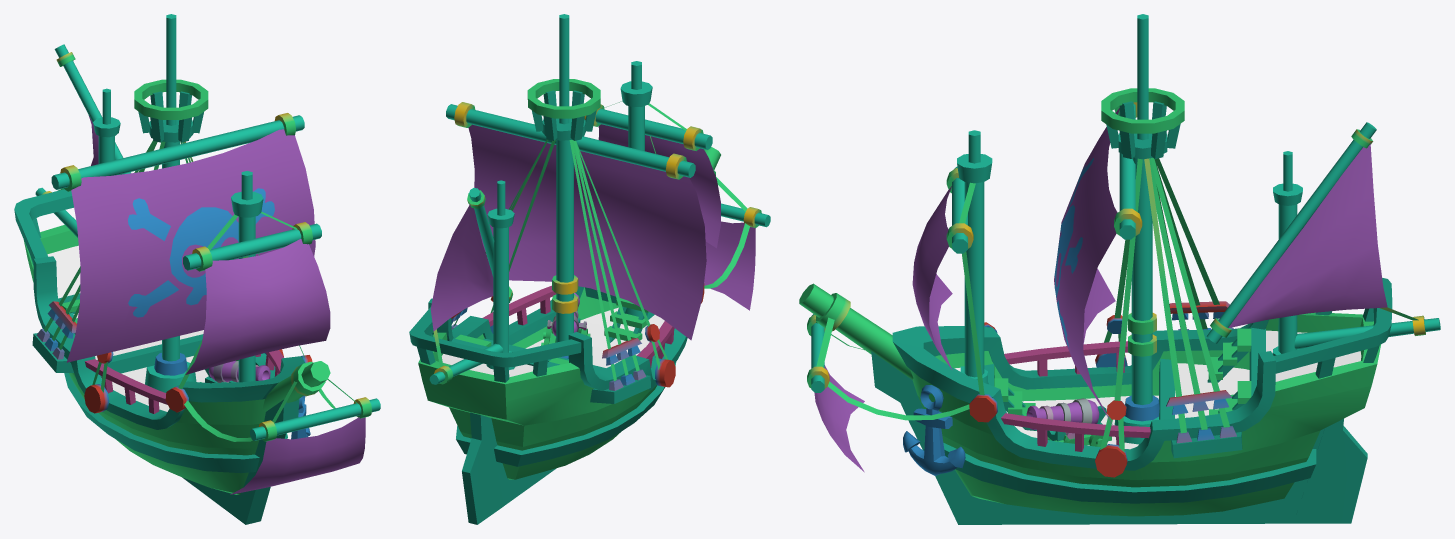
The model's file is Galleon.fbx.
3 renders of one model, left to right at view 1: azimuth 30°, elevation 25°; view 2: azimuth 150°, elevation 25°; view 3: azimuth 270°, elevation 25°, orthographic. The views are drawn at different scales.
Visible parts, largest first — view 1: Sails, Galleon, Upgrade_01, Cannon_group; view 2: Galleon, Sails, Rudder, Upgrade_01, Cannon_group; view 3: Galleon, Sails, Upgrade_01, Rudder, Upgrade_02, Cannon_group.
Part boxes in pixels (x1=…): Sails: x1=66, y1=115, x2=365, y2=494; Galleon: x1=14, y1=14, x2=380, y2=524; Upgrade_01: x1=64, y1=373, x2=287, y2=473; Cannon_group: x1=200, y1=360, x2=270, y2=383; Galleon: x1=409, y1=14, x2=770, y2=505; Sails: x1=430, y1=124, x2=755, y2=340; Rudder: x1=462, y1=412, x2=503, y2=524; Upgrade_01: x1=456, y1=362, x2=676, y2=466; Cannon_group: x1=541, y1=293, x2=590, y2=345; Galleon: x1=799, y1=14, x2=1440, y2=524; Sails: x1=814, y1=108, x2=1387, y2=472; Upgrade_01: x1=943, y1=443, x2=1316, y2=503; Rudder: x1=1293, y1=418, x2=1367, y2=523; Upgrade_02: x1=903, y1=385, x2=965, y2=475; Cannon_group: x1=1026, y1=398, x2=1111, y2=446.
Size of the model in its own units: 541 by 939 by 1083.
